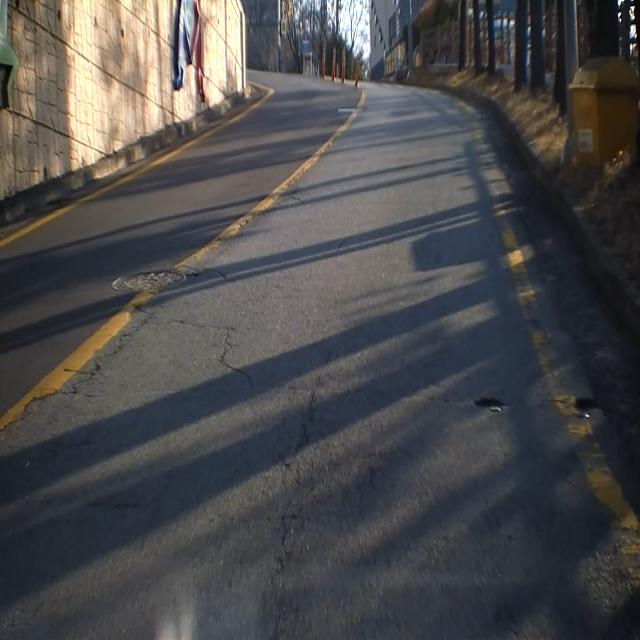Pothole: (467, 386, 513, 422), (569, 388, 602, 419)
